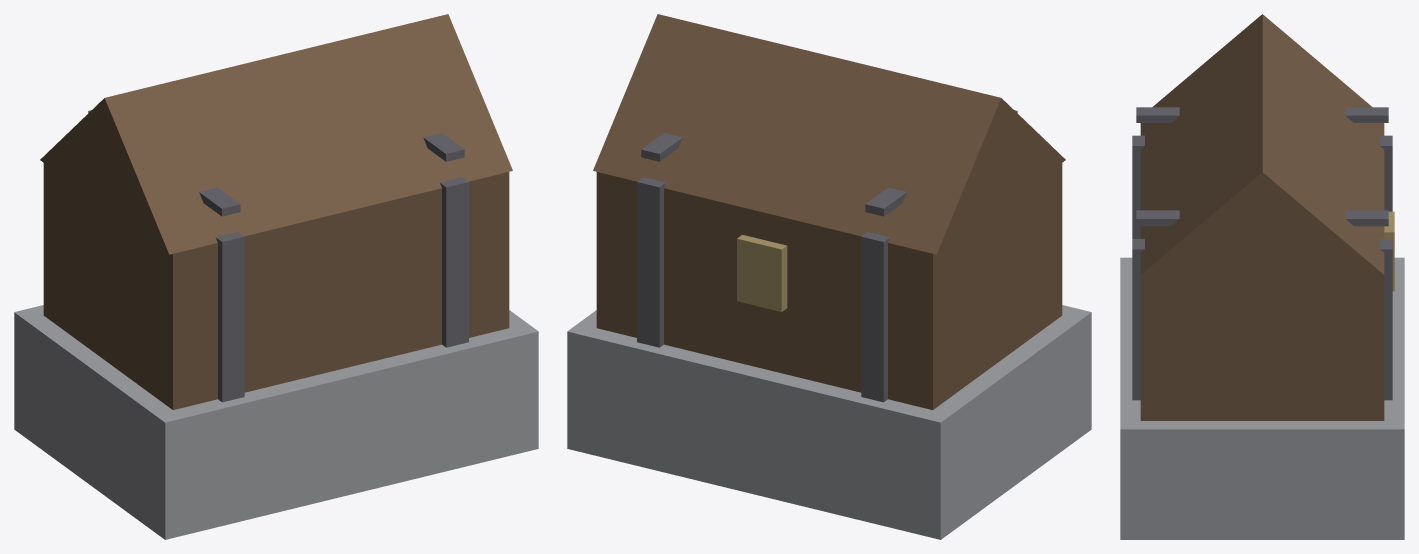
The model's file is ReliquaryBox.fbx.
3 renders of one model, left to right at view 1: azimuth 30°, elevation 25°; view 2: azimuth 150°, elevation 25°; view 3: azimuth 270°, elevation 25°, orthographic. The views are drawn at different scales.
Visible parts, largest first — view 1: ReliquaryBox; view 2: ReliquaryBox; view 3: ReliquaryBox.
Part boxes in pixels (x1,y1,x2,y2): ReliquaryBox: (14, 14, 538, 539); ReliquaryBox: (567, 14, 1091, 539); ReliquaryBox: (1120, 14, 1404, 539).
Bounding box in the file's own units: 1 × 0.98 × 0.7.
